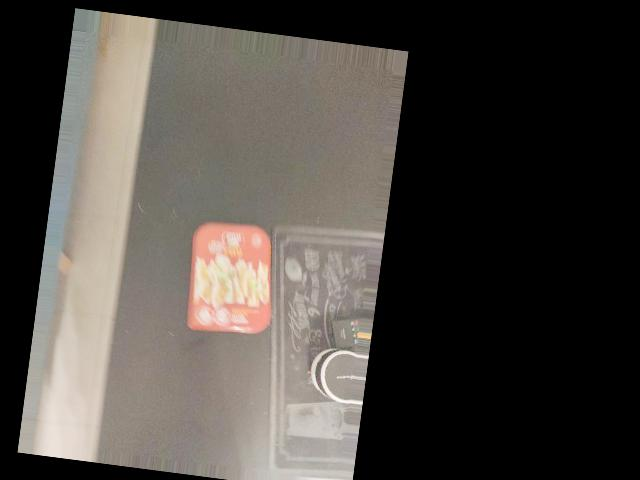cheese: (180, 218, 282, 338)
